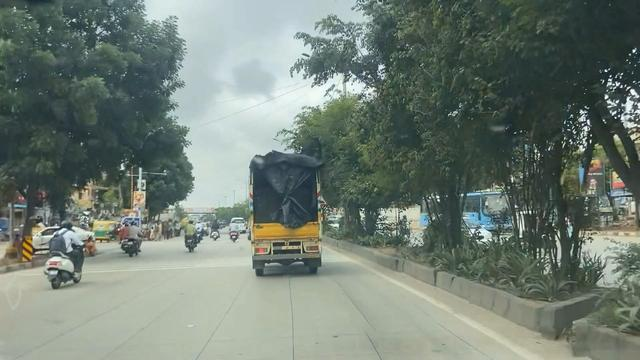HMV: (242, 131, 342, 302)
